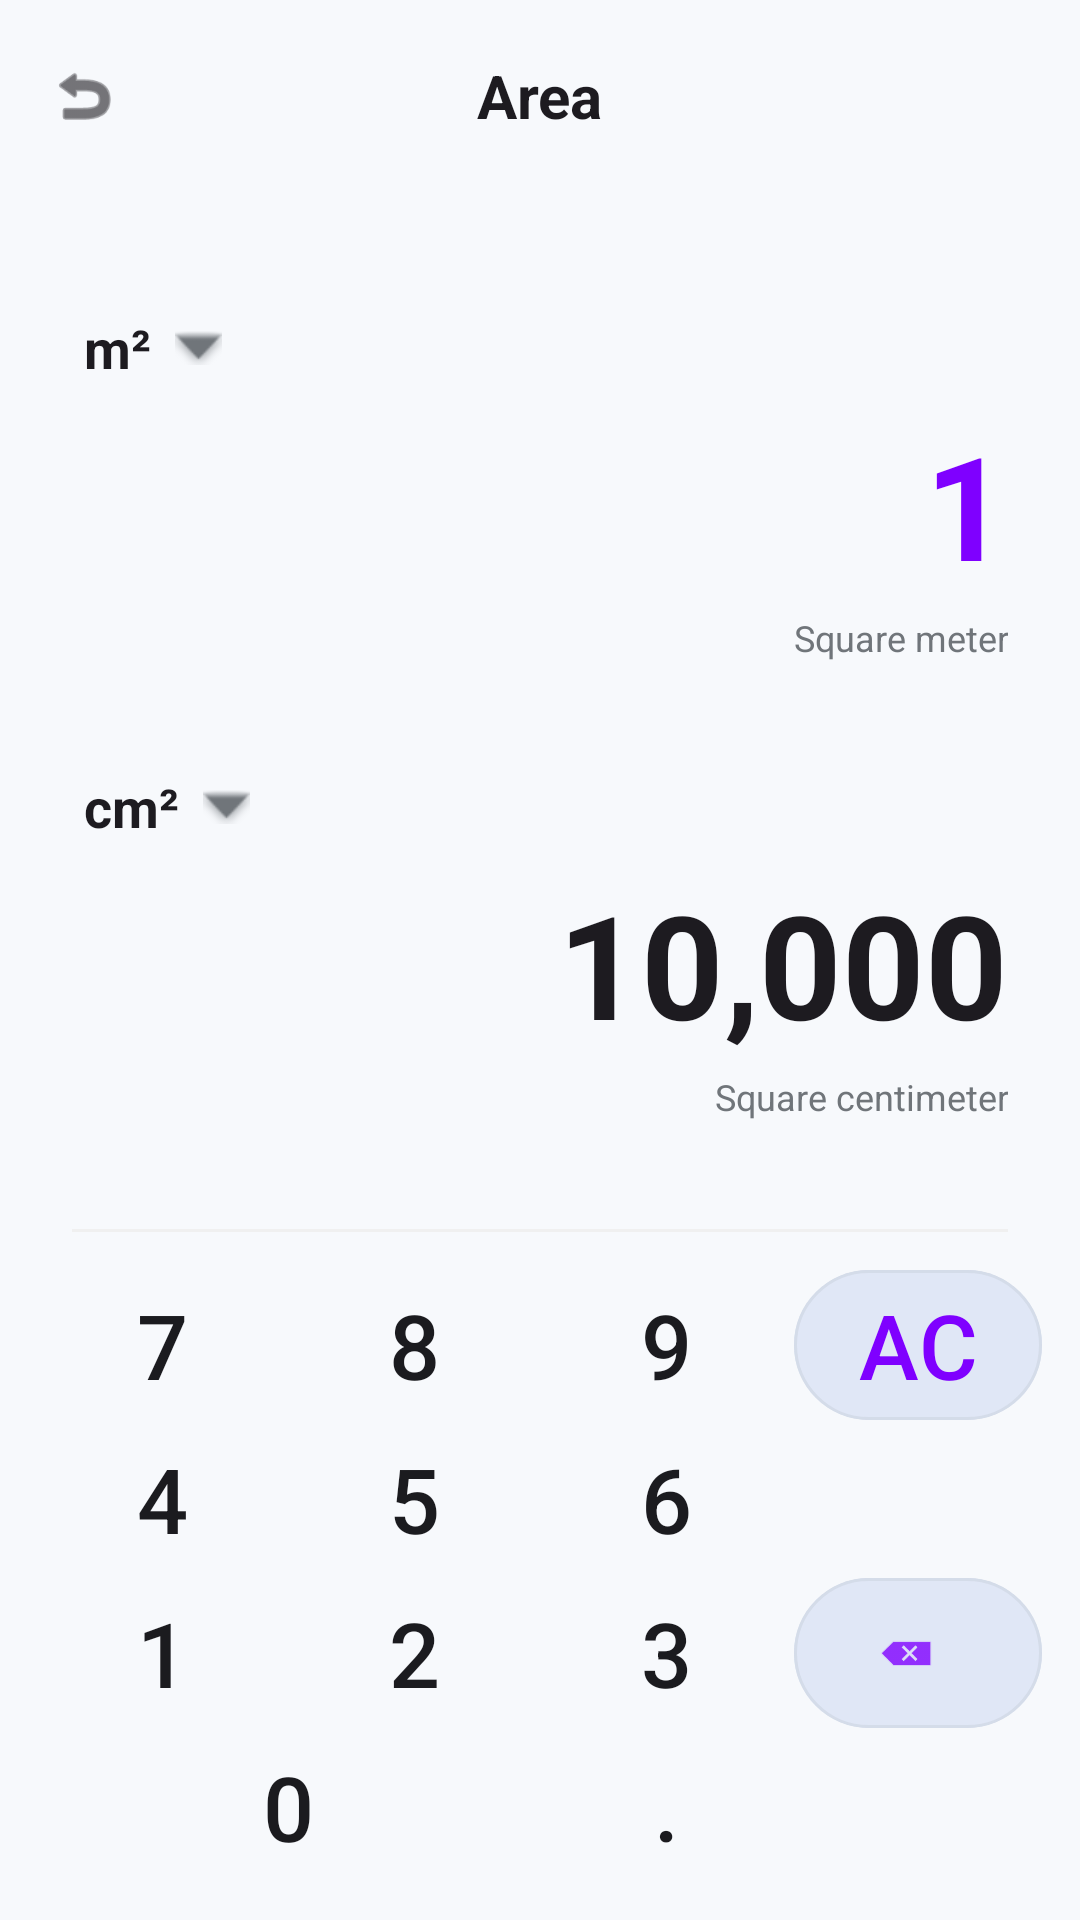

Icon bounding boxes for this 1080×1920 phone screenshot, format (x1=x1, y1=y1, x2=x2, y2=y2):
delete: (x1=794, y1=1578, x2=1042, y2=1728)
revert: (x1=59, y1=73, x2=111, y2=120)
